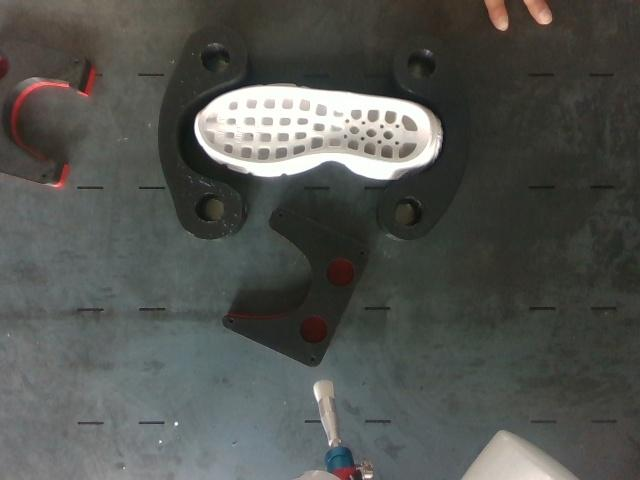shoes: (198, 88, 430, 163)
